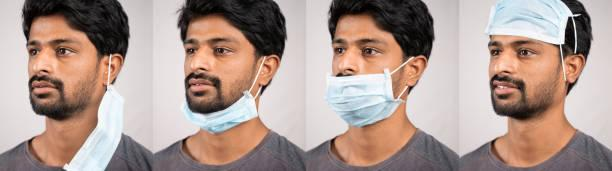mask_weared_incorrect: (328, 11, 425, 140), (178, 13, 278, 138), (28, 13, 133, 131), (484, 0, 579, 119)
